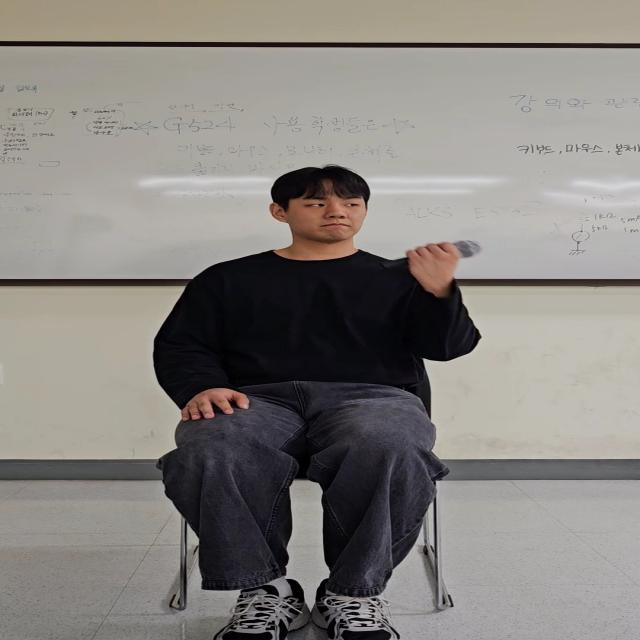curl: (372, 238, 486, 362)
